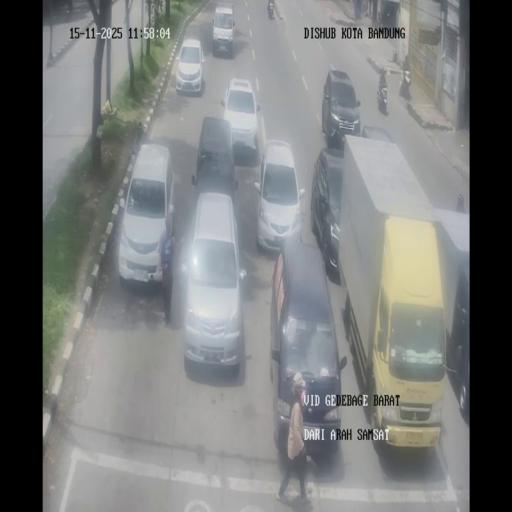3: (334, 137, 464, 451)
car: (271, 238, 341, 454), (180, 191, 246, 371), (118, 141, 174, 287), (254, 137, 304, 254), (312, 146, 346, 279), (221, 78, 260, 160), (322, 69, 360, 147), (175, 38, 205, 96), (211, 5, 235, 57)
truck: (399, 59, 412, 100), (377, 82, 388, 113), (268, 0, 274, 18)
